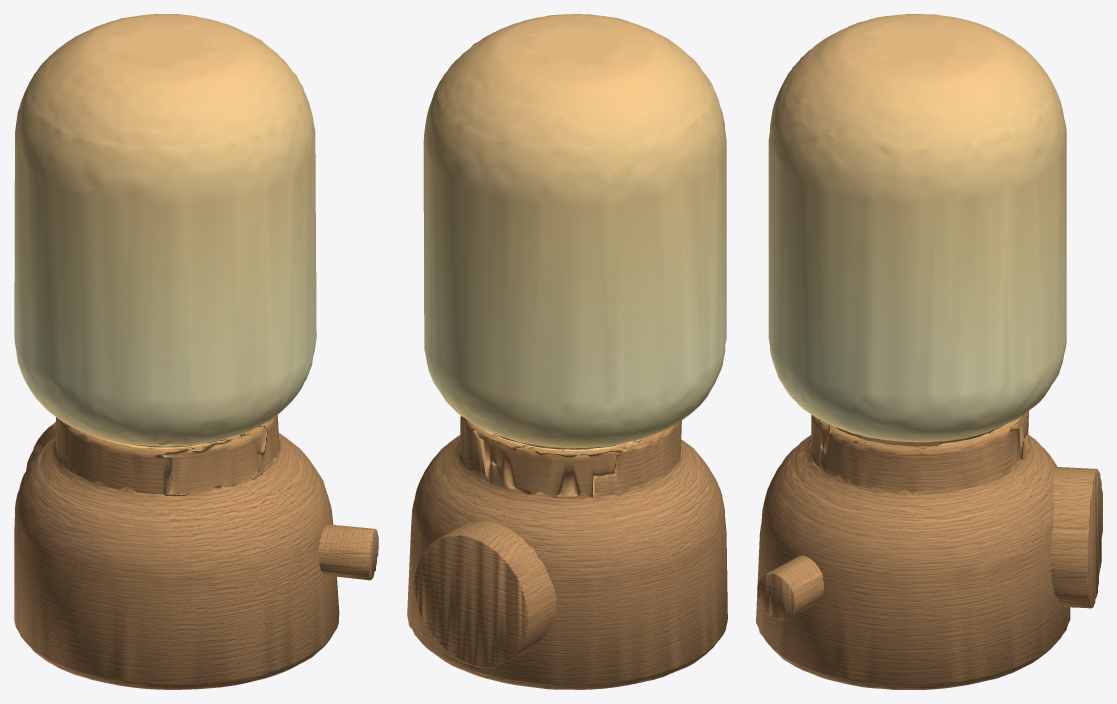
The model's file is lamp_01.glb.
3 views of the same model, side by side, from view 1: azimuth 30°, elevation 25°; view 2: azimuth 150°, elevation 25°; view 3: azimuth 270°, elevation 25° (orthographic).
Parts seen in each view (by area): view 1: tripo_part_0, tripo_part_1, tripo_part_3, tripo_part_4; view 2: tripo_part_0, tripo_part_1, tripo_part_5, tripo_part_3; view 3: tripo_part_0, tripo_part_1, tripo_part_3, tripo_part_5, tripo_part_4.
Boxes of the visible parts, <box> form: tripo_part_0: <box>14,14,316,446</box>; tripo_part_1: <box>14,433,339,689</box>; tripo_part_3: <box>55,415,280,494</box>; tripo_part_4: <box>318,524,378,580</box>; tripo_part_0: <box>423,14,726,448</box>; tripo_part_1: <box>407,434,727,689</box>; tripo_part_5: <box>414,521,556,667</box>; tripo_part_3: <box>459,416,681,498</box>; tripo_part_0: <box>768,14,1066,442</box>; tripo_part_1: <box>756,425,1070,689</box>; tripo_part_3: <box>810,411,1028,493</box>; tripo_part_5: <box>1050,467,1102,608</box>; tripo_part_4: <box>757,555,823,619</box>.
Size of the model in its own units: 0.5029 by 1 by 0.5421.
Materials: 8 (8 with a texture image).
